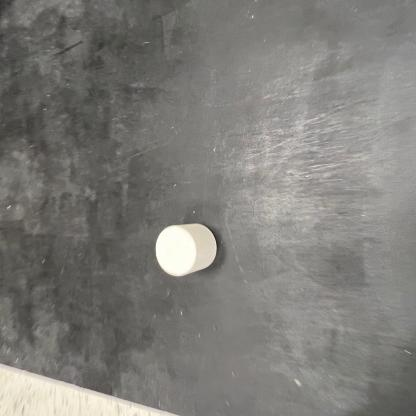white cylinder: (155, 222, 218, 278)
